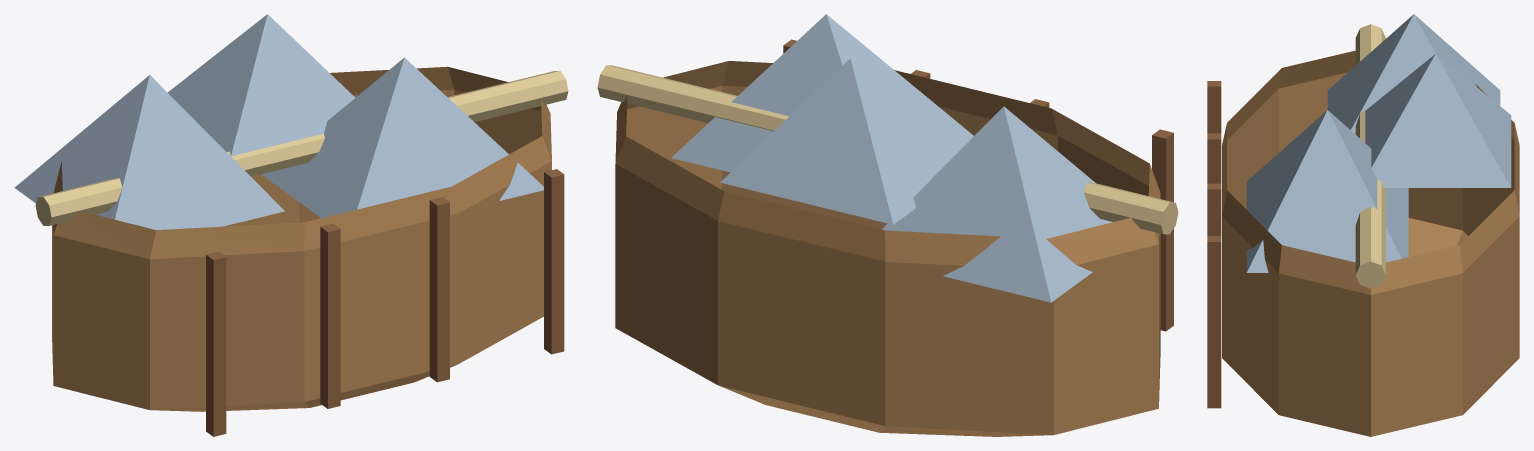
The model's file is piedra.glb.
3 views of the same model, side by side, from view 1: azimuth 30°, elevation 25°; view 2: azimuth 150°, elevation 25°; view 3: azimuth 270°, elevation 25° (orthographic). The views are drawn at different scales.
Parts seen in each view (by area): view 1: piedra; view 2: piedra; view 3: piedra.
Boxes of the visible parts, left/top/right/bottom form: piedra: left=14, top=14, right=568, bottom=436; piedra: left=597, top=14, right=1178, bottom=436; piedra: left=1207, top=14, right=1519, bottom=436.
Size of the model in its own units: 0.52 by 0.3 by 0.2894.
